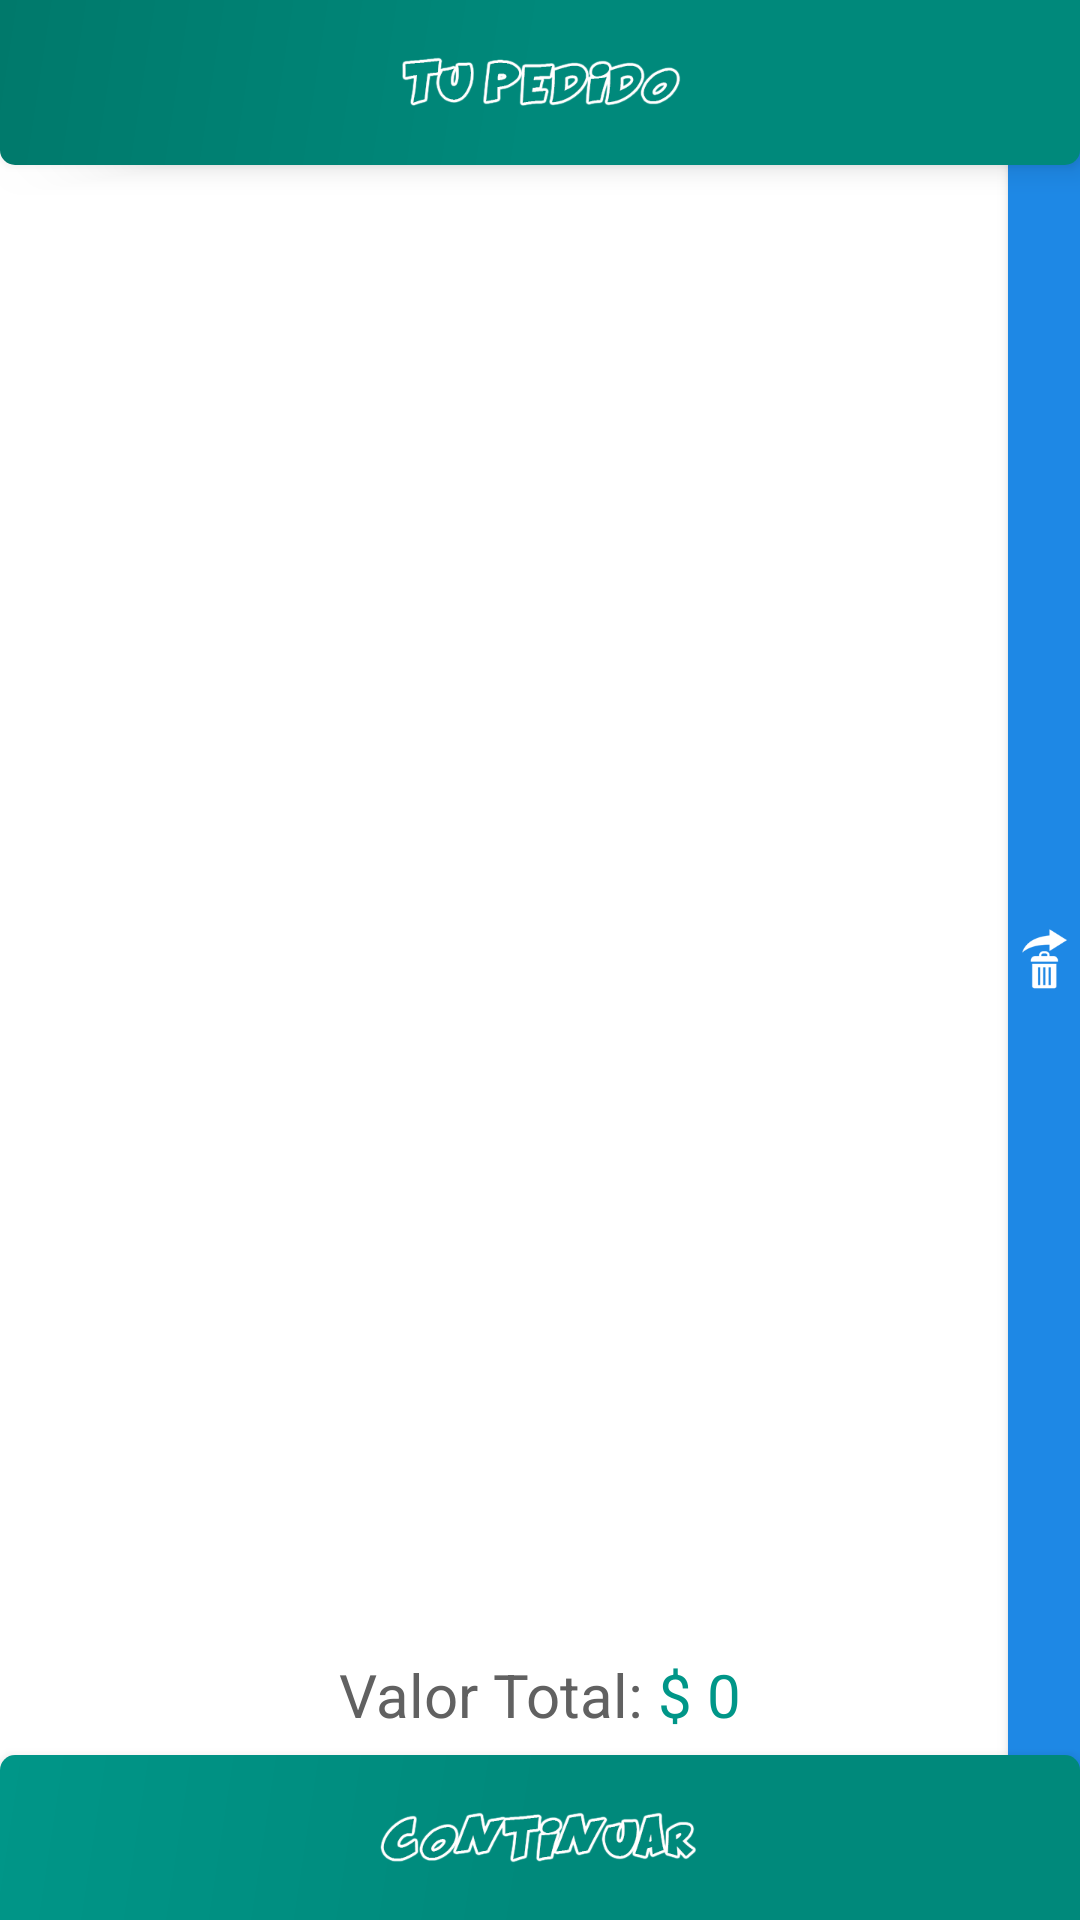

Screen size 1080w x 1920h. Icon name, then its box in pixels as (x1, y1, x2, y2):
trash: (1022, 929, 1067, 989)
